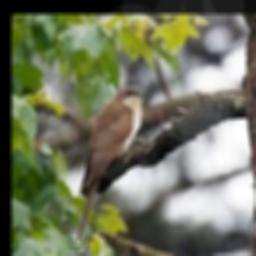Cuckoo: (76, 86, 147, 241)
